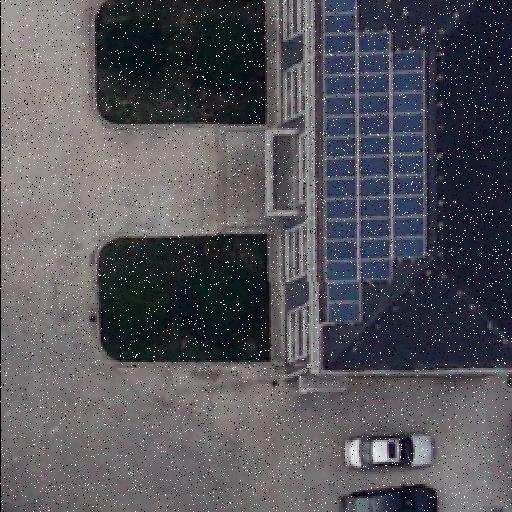solar-panel: (312, 0, 432, 330)
